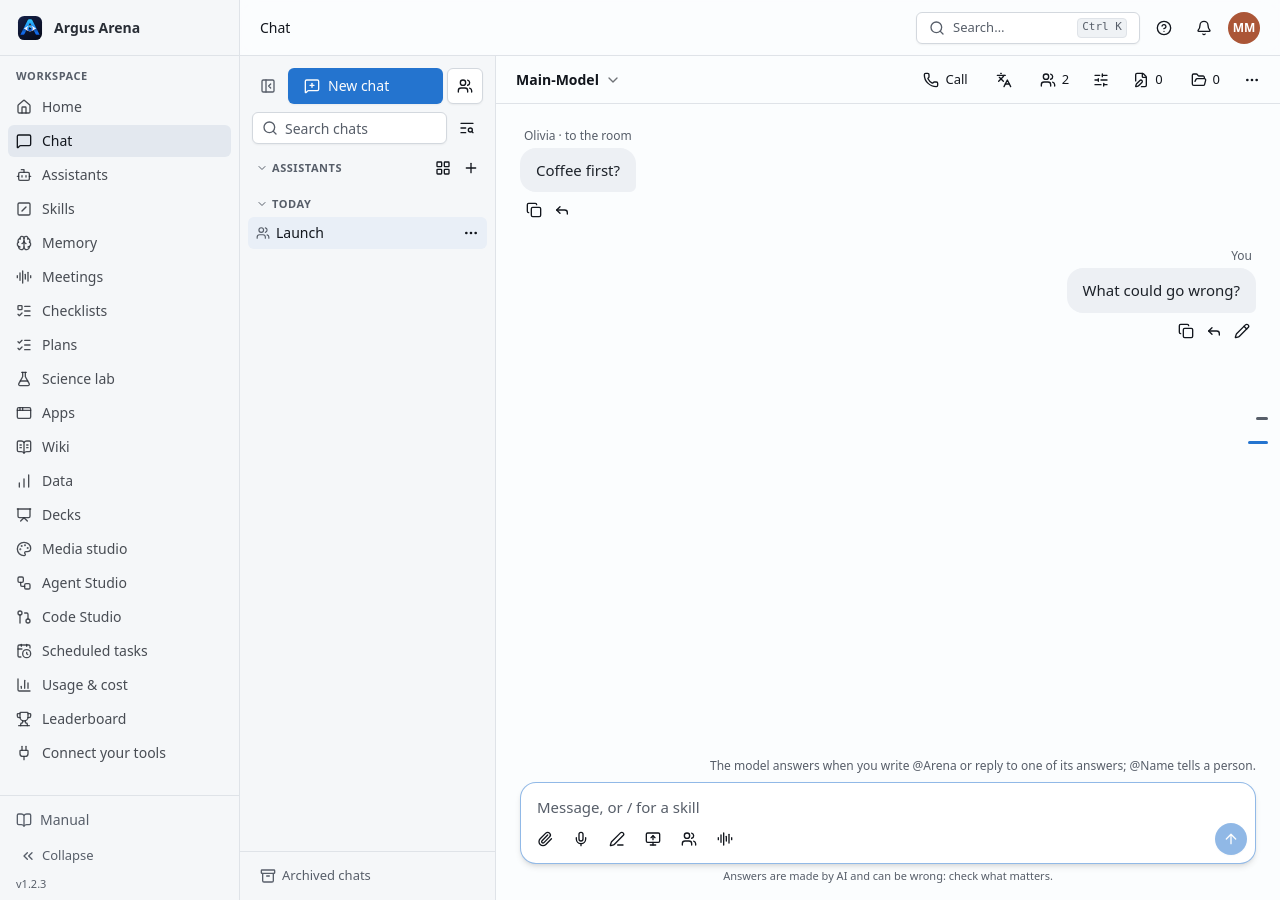
Test: rooms › shows who wrote what, sends through the line, and says it to the people only when asked
Check: the text "What could go wrong?" is shown, box 1066,268 -> 1256,313
Check: the element "Olivia" shows "to the room", box 556,127 -> 632,144
// A reply to a person, naming another: sent with what it replies to and whom it names.
Click the button named "Reply to Olivia": [562, 210] box 548,196 -> 576,224
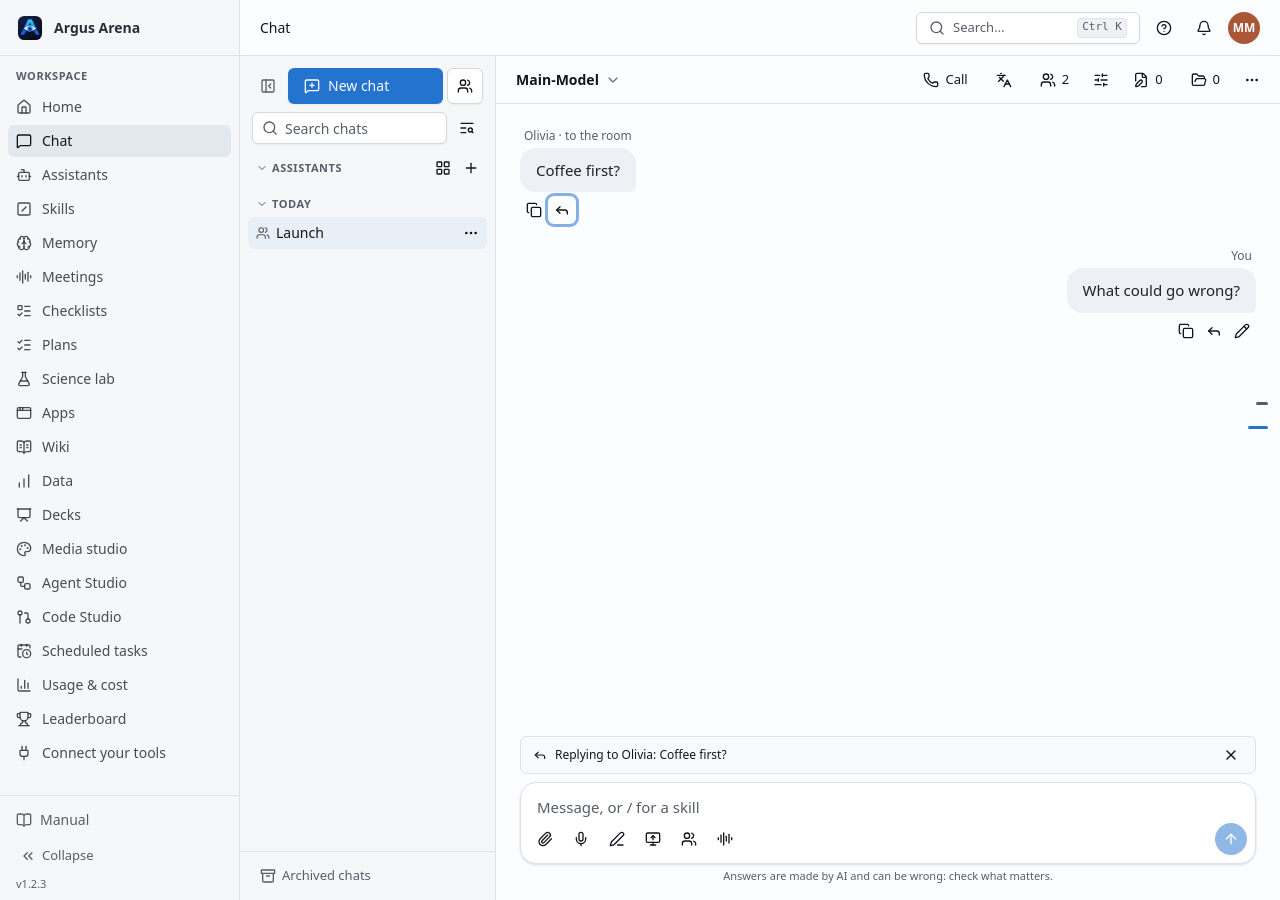
Check: the text "Replying to Olivia: Coffee first?" is shown, box 555,746 -> 727,762
In the text box labelled "Message": [888, 800] box 521,782 -> 1255,818, type "Yes @olivia"
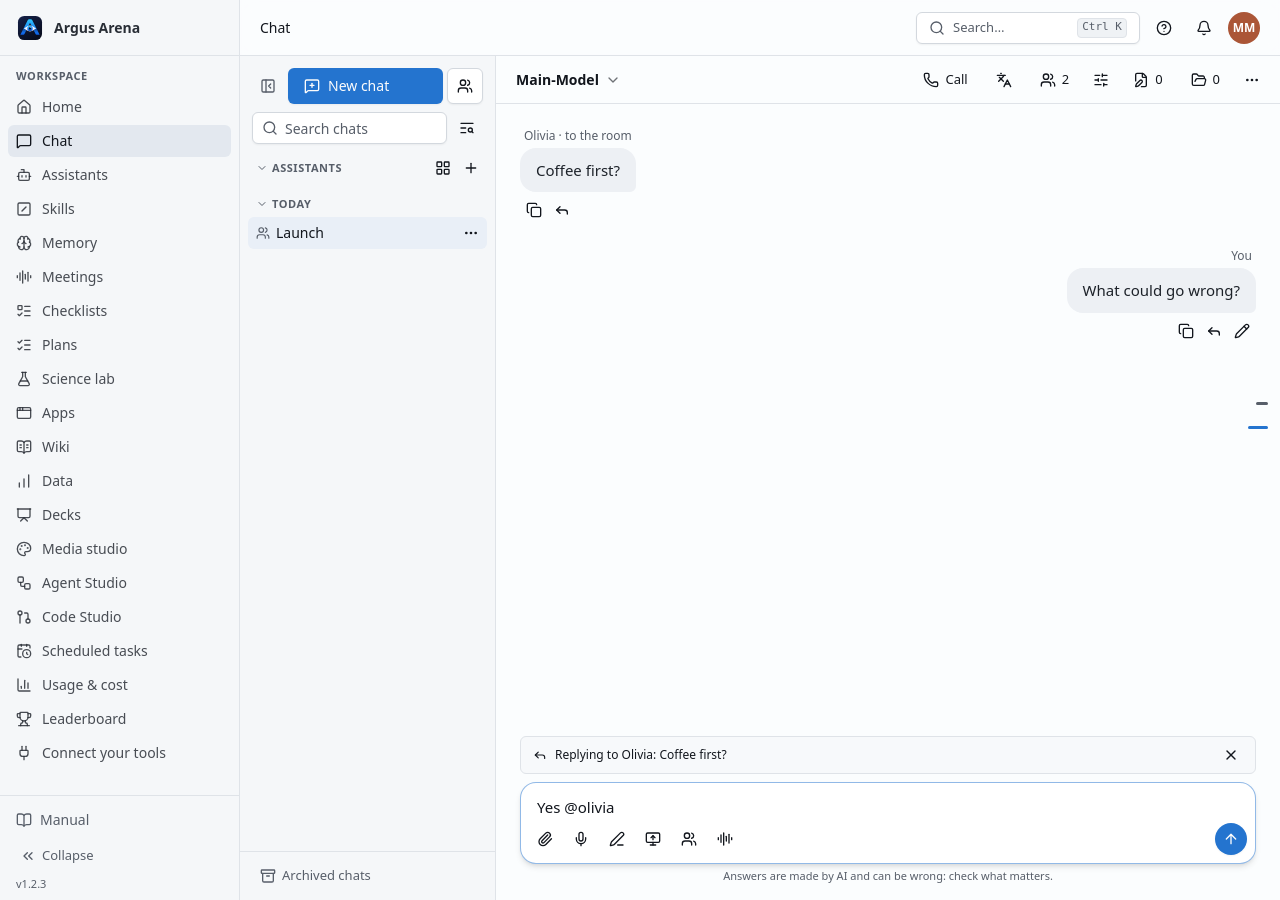
Press Enter
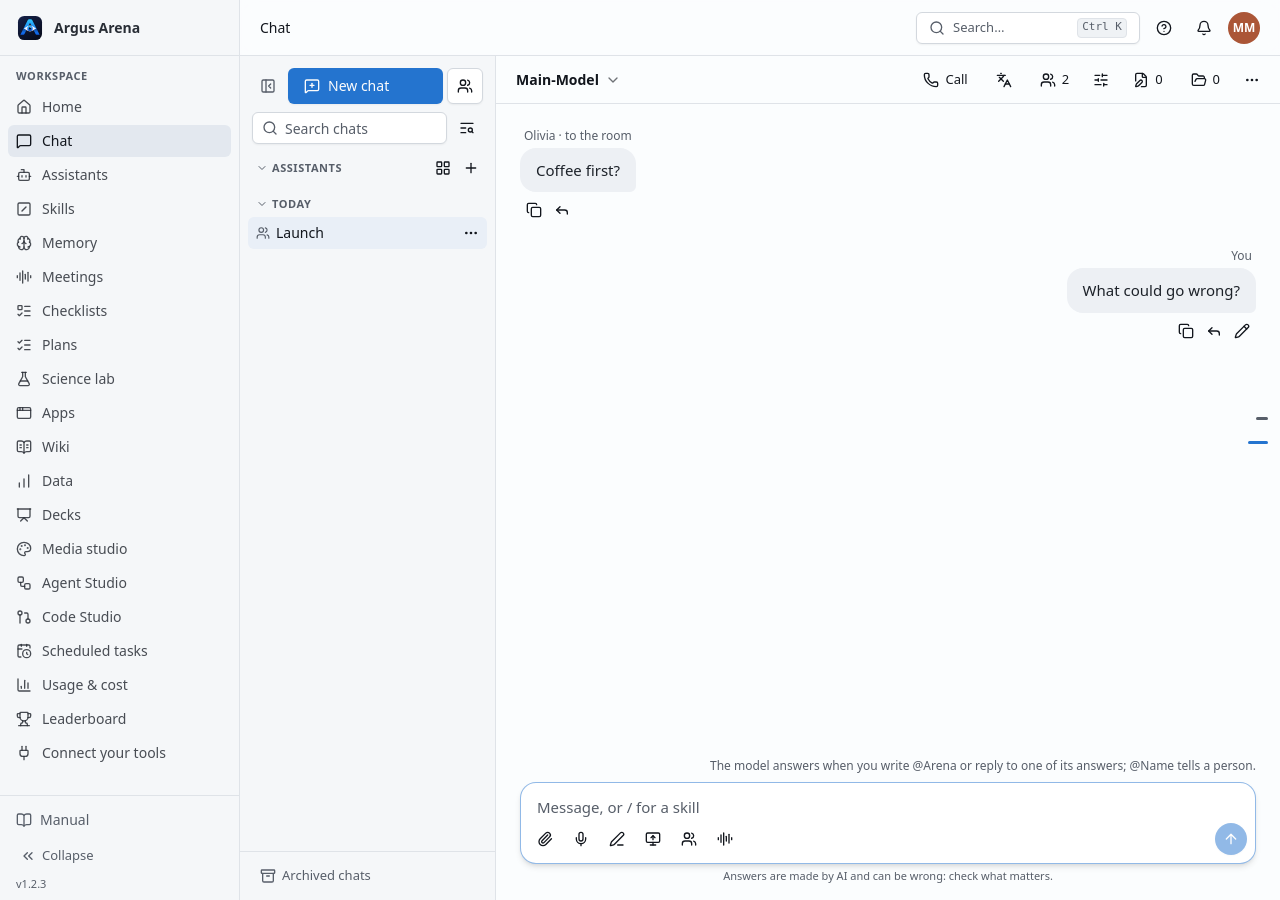
Check: the text "Replying to Olivia" is gone
Click the button named "People in this room (2": [1054, 80] box 1028,64 -> 1081,96
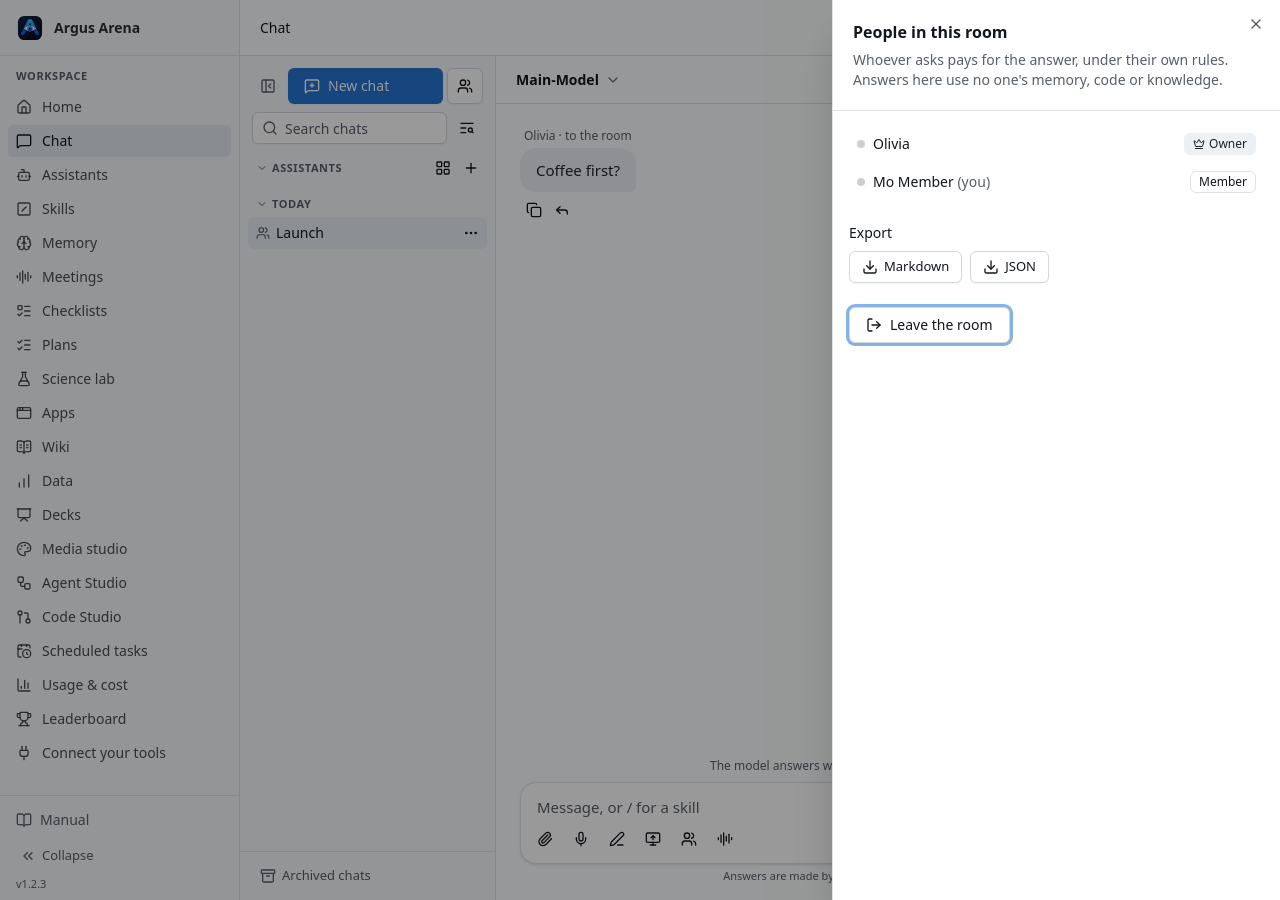
Check: the text "Olivia" is shown, box 873,134 -> 910,153
Check: the button "Leave the room" is shown, box 849,307 -> 1010,343
